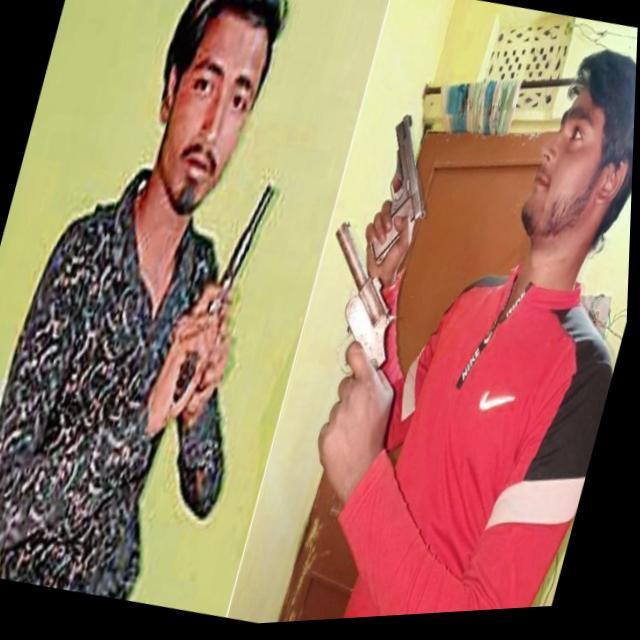weapon: (280, 216, 432, 467), (161, 170, 288, 431), (351, 96, 468, 282)
